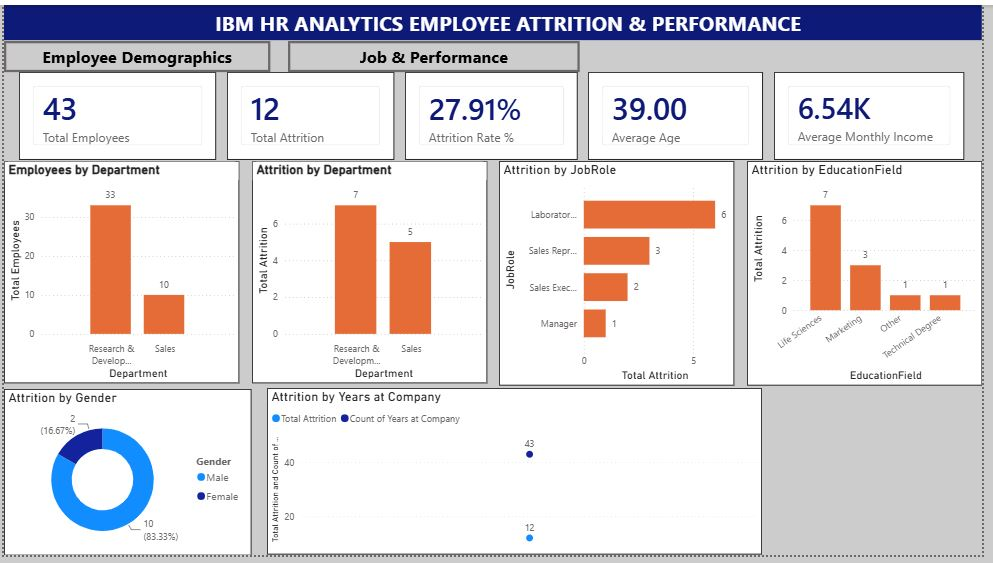

The dashboard page shown, as its layout file describes it:
{"tool":"powerbi","page":{"name":"IBM HR ANALYTICS EMPLOYEE ATTRITION & PERFORMANCE","canvas":[1280,720],"ordinal":0},"visuals":[{"type":"textbox","box":[0,0,1280,46.4],"z":0},{"type":"cardVisual","fields":{"Data":["IBM HR Analytics Employee Attrition & Performance.Total Employees","select"]},"box":[19.6,87.5,258.1,114.7],"z":1000},{"type":"cardVisual","fields":{"Data":["IBM HR Analytics Employee Attrition & Performance.Total Attrition"]},"box":[291.7,87.5,218.9,114.7],"z":2000},{"type":"cardVisual","fields":{"Data":["IBM HR Analytics Employee Attrition & Performance.Attrition Rate %"]},"box":[524.5,87.5,226.4,114.7],"z":3000},{"type":"cardVisual","fields":{"Data":["IBM HR Analytics Employee Attrition & Performance.Average Age"]},"box":[764.9,87.5,229.4,114.7],"z":4000},{"type":"cardVisual","fields":{"Data":["IBM HR Analytics Employee Attrition & Performance.Average Monthly Income"]},"box":[1008.3,87.5,249.1,114.7],"z":5000},{"type":"clusteredColumnChart","title":"Employees by Department","fields":{"Category":["IBM HR Analytics Employee Attrition & Performance.Department"],"Y":["IBM HR Analytics Employee Attrition & Performance.Total Employees"]},"box":[0,203.8,307.9,291.3],"z":6000},{"type":"clusteredColumnChart","title":"Attrition by Department","fields":{"Category":["IBM HR Analytics Employee Attrition & Performance.Department"],"Y":["IBM HR Analytics Employee Attrition & Performance.Total Attrition"]},"box":[324,203.8,307.9,291.3],"z":7000},{"type":"clusteredBarChart","title":"Attrition by JobRole","fields":{"Y":["IBM HR Analytics Employee Attrition & Performance.Total Attrition"],"Category":["IBM HR Analytics Employee Attrition & Performance.JobRole"]},"box":[648.1,203.8,307.9,294.3],"z":8000},{"type":"clusteredColumnChart","title":"Attrition by EducationField","fields":{"Category":["IBM HR Analytics Employee Attrition & Performance.EducationField"],"Y":["IBM HR Analytics Employee Attrition & Performance.Total Attrition"]},"box":[972.1,203.8,307.9,294.3],"z":9000},{"type":"donutChart","title":"Attrition by Gender","fields":{"Category":["IBM HR Analytics Employee Attrition & Performance.Gender"],"Y":["IBM HR Analytics Employee Attrition & Performance.Total Attrition"]},"box":[0,502.6,323.8,218.4],"z":10000},{"type":"lineChart","title":"Attrition by Years at Company ","fields":{"Y":["IBM HR Analytics Employee Attrition & Performance.Total Attrition","CountNonNull(IBM HR Analytics Employee Attrition & Performance.YearsAtCompany)"]},"box":[344.5,501.6,647.5,218.4],"z":11000},{"type":"actionButton","box":[371.3,46.8,381.9,40.8],"z":12000},{"type":"actionButton","box":[0,46.8,348.7,40.8],"z":13000}]}

Visuals, with their boxes in screenshot pixels (x1, y1, x2, y2), scaled from the page's 1280x720 canvas onto the 993x563 screenshot:
textbox: box(0, 0, 992, 36)
cardVisual - IBM HR Analytics Employee Attrition & Performance.Total Employees x select: box(15, 68, 215, 158)
cardVisual - IBM HR Analytics Employee Attrition & Performance.Total Attrition: box(226, 68, 396, 158)
cardVisual - IBM HR Analytics Employee Attrition & Performance.Attrition Rate %: box(407, 68, 583, 158)
cardVisual - IBM HR Analytics Employee Attrition & Performance.Average Age: box(593, 68, 771, 158)
cardVisual - IBM HR Analytics Employee Attrition & Performance.Average Monthly Income: box(782, 68, 975, 158)
"Employees by Department" clusteredColumnChart: box(0, 159, 239, 387)
"Attrition by Department" clusteredColumnChart: box(251, 159, 490, 387)
"Attrition by JobRole" clusteredBarChart: box(503, 159, 742, 389)
"Attrition by EducationField" clusteredColumnChart: box(754, 159, 992, 389)
"Attrition by Gender" donutChart: box(0, 393, 251, 562)
"Attrition by Years at Company " lineChart: box(267, 392, 770, 562)
actionButton: box(288, 37, 584, 68)
actionButton: box(0, 37, 271, 68)
